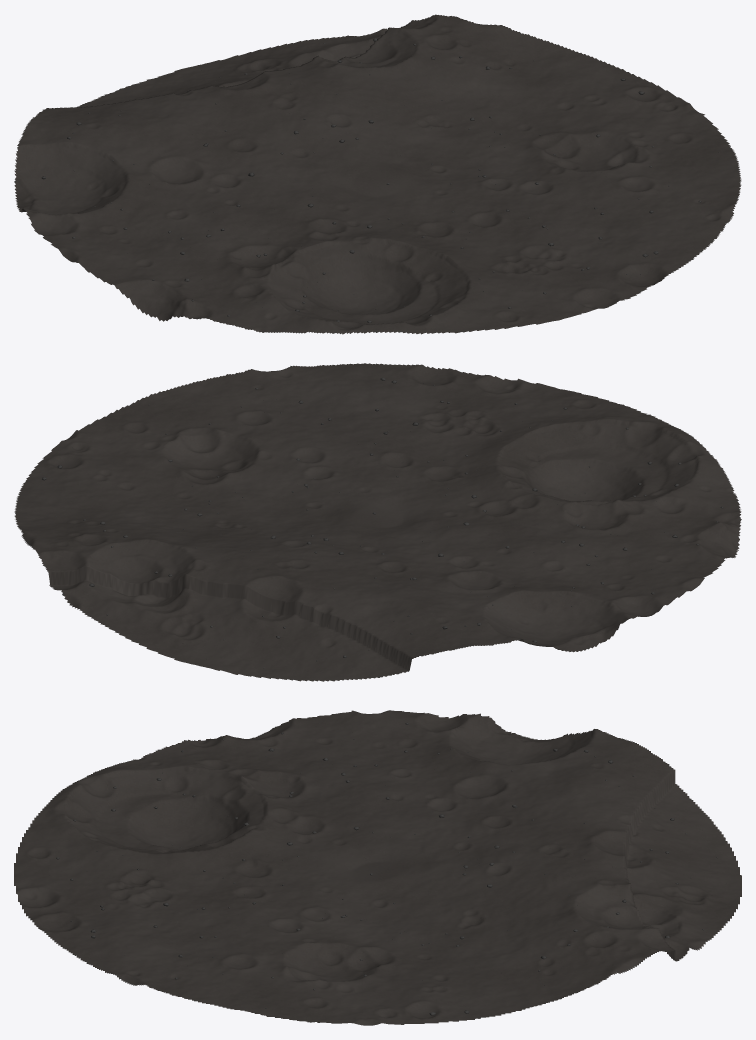
The model's file is lunar_terrain.glb.
The picture shows the model from 3 angles, top to bottom: view 1: azimuth 30°, elevation 25°; view 2: azimuth 150°, elevation 25°; view 3: azimuth 270°, elevation 25°; orthographic projection.
Visible parts, largest first — view 1: lunar_terrain, boulders; view 2: lunar_terrain, boulders; view 3: lunar_terrain, boulders.
Boxes of the visible parts, <box> form: lunar_terrain: <box>14,14,741,334</box>; boulders: <box>41,36,719,322</box>; lunar_terrain: <box>14,363,741,681</box>; boulders: <box>42,377,723,668</box>; lunar_terrain: <box>14,710,741,1025</box>; boulders: <box>56,722,726,1015</box>.
Bounding box in the file's own units: 1000 × 73.98 × 1000.
2 materials, 1 textured.
